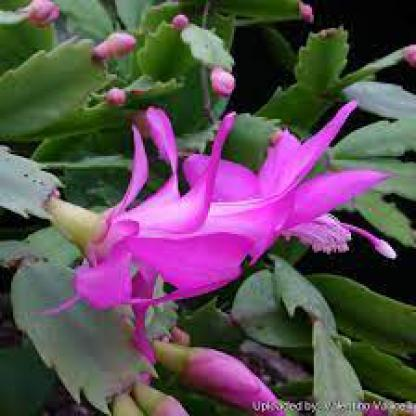Aglonema: (30, 5, 403, 389)
